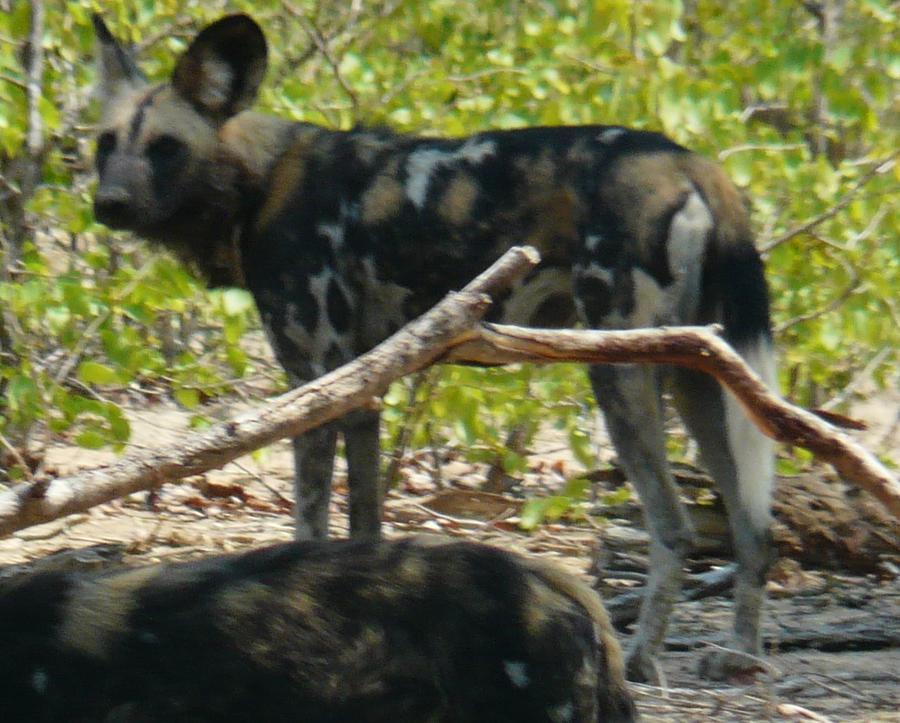wilddog: (95, 31, 776, 505)
